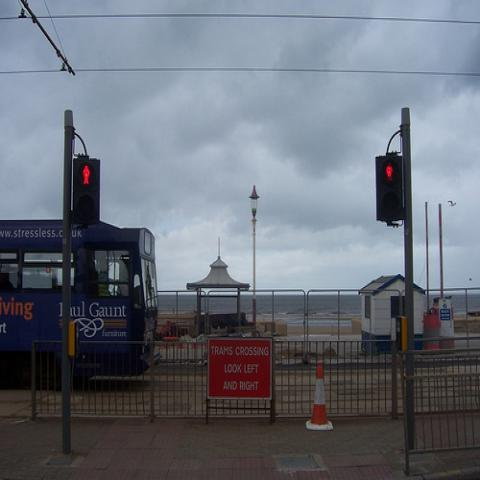bus: (1, 221, 158, 387)
